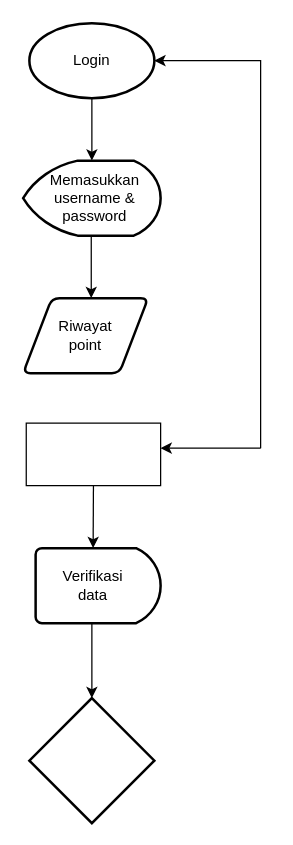
This 293x845 diagram has some shape labels left out. Each missing label, with the box of its shape:
Memasukkan nama & pelanggaran: (25, 422, 161, 486)
Selesai: (28, 696, 155, 824)
